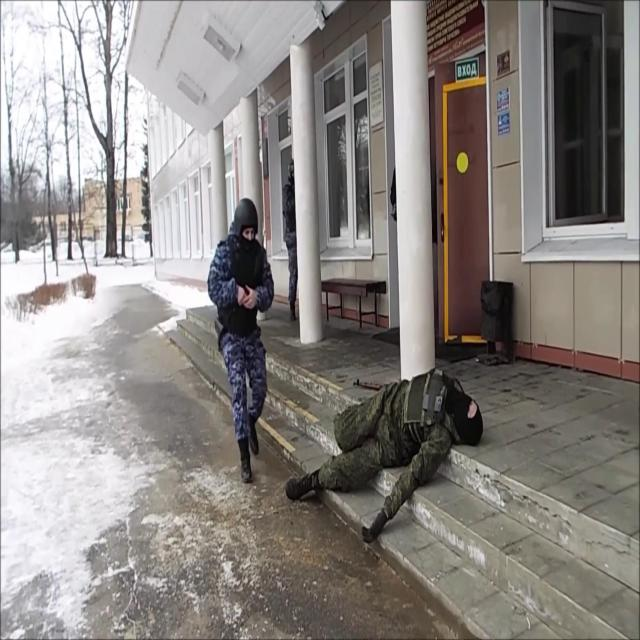gun: (284, 367, 484, 546), (207, 195, 276, 482), (281, 157, 300, 321), (353, 375, 385, 394)
